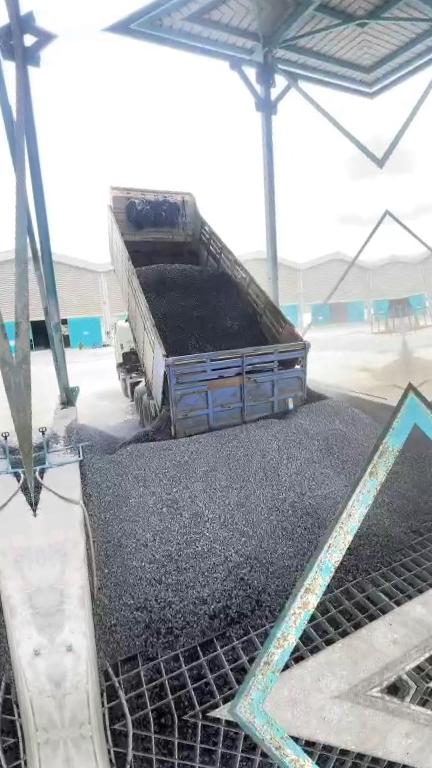gravel: (61, 389, 391, 659), (334, 429, 427, 583), (138, 264, 266, 352), (33, 442, 45, 513)
sand: (349, 337, 409, 403)
